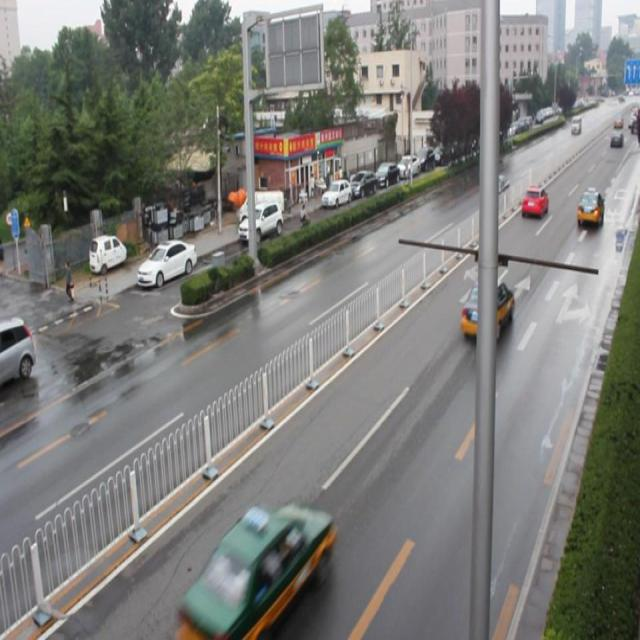car: (178, 501, 334, 628), (460, 277, 512, 340), (573, 182, 604, 228), (519, 184, 547, 222), (485, 173, 509, 199)
